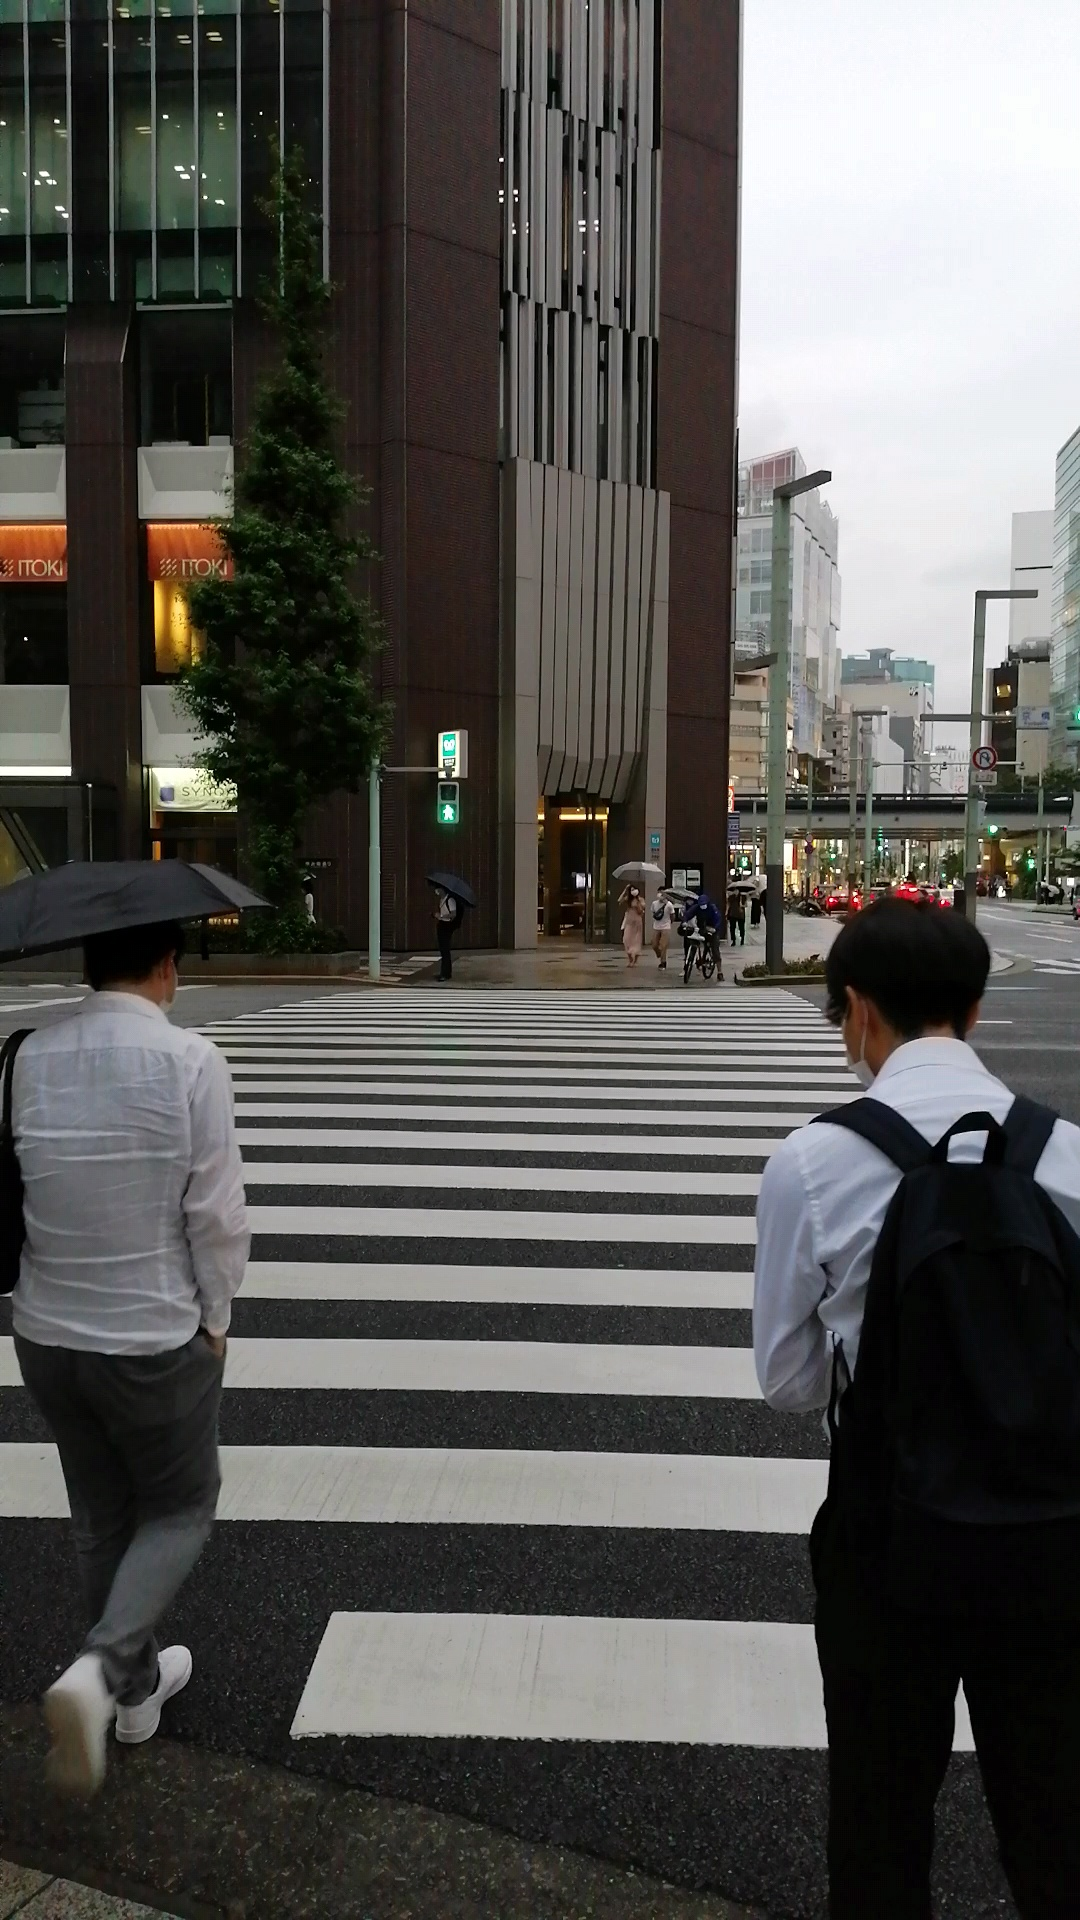green: (434, 781, 462, 825)
